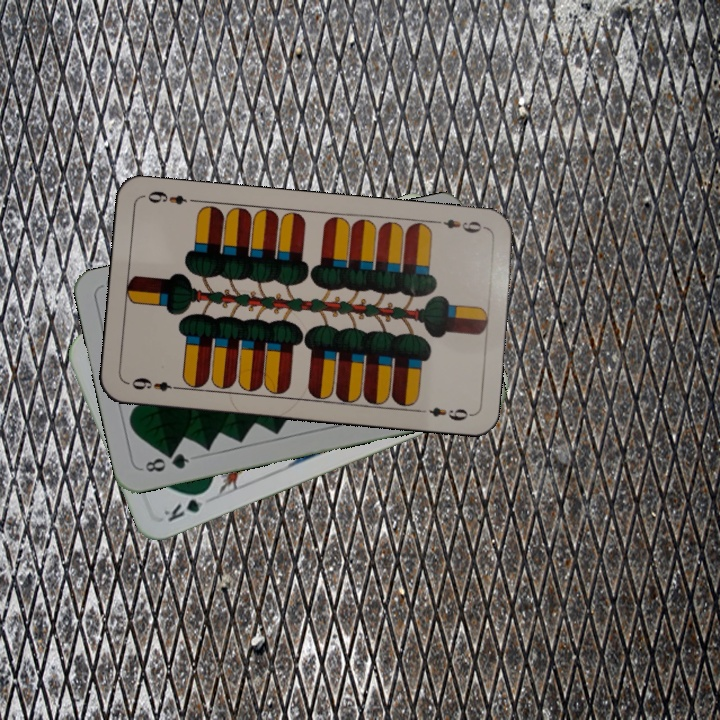E9: (430, 214, 489, 236), (124, 374, 183, 394)
G8: (141, 449, 192, 475)
GK: (160, 486, 212, 525)
